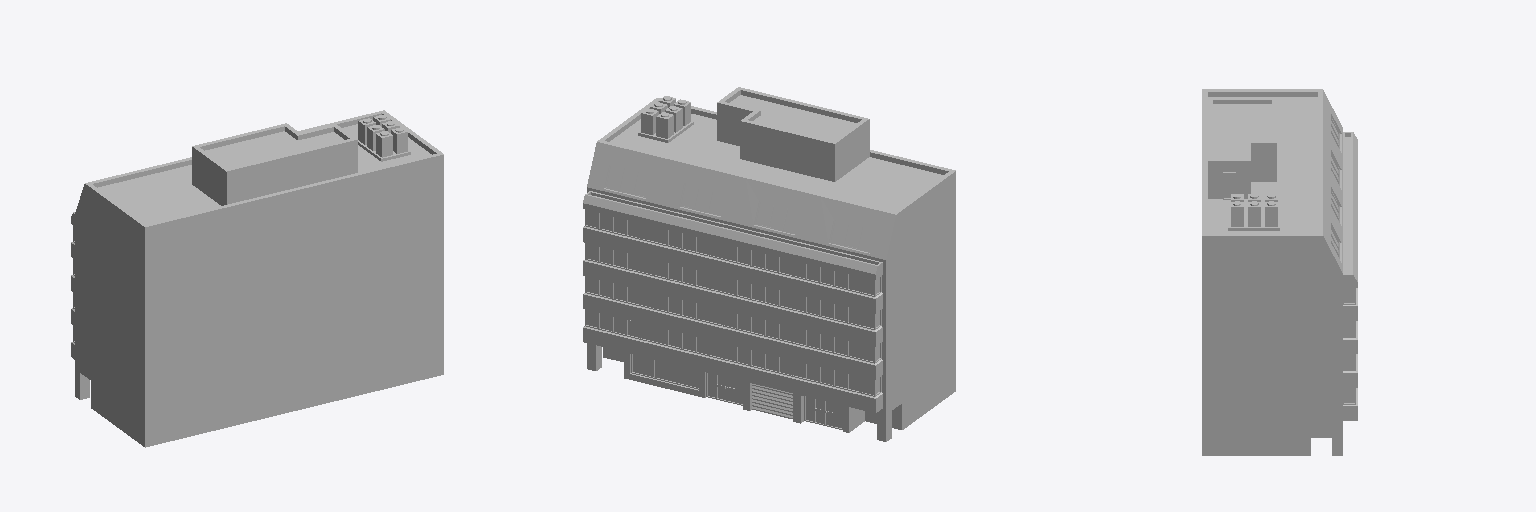
The model's file is ShortWide.obj.
3 views of the same model, side by side, from view 1: azimuth 30°, elevation 25°; view 2: azimuth 150°, elevation 25°; view 3: azimuth 270°, elevation 25° (orthographic).
Visible parts, largest first — view 1: Box001, Box016; view 2: Box001, Box011, Box002, Box012, Box013, Box014, Box016, Box009, Box007; view 3: Box001, Box014, Box016.
Boxes of the visible parts, <box> form: Box001: <box>75,110,443,447</box>; Box016: <box>358,114,410,161</box>; Box001: <box>587,87,955,441</box>; Box011: <box>583,276,882,379</box>; Box002: <box>583,310,882,413</box>; Box012: <box>583,243,882,346</box>; Box013: <box>583,210,882,313</box>; Box014: <box>583,191,882,279</box>; Box016: <box>638,96,693,142</box>; Box009: <box>804,396,842,429</box>; Box007: <box>706,372,742,405</box>; Box001: <box>1202,89,1342,455</box>; Box014: <box>1343,132,1357,287</box>; Box016: <box>1228,194,1279,230</box>.
Size of the model in its own units: 6.3 by 5.1 by 2.82.